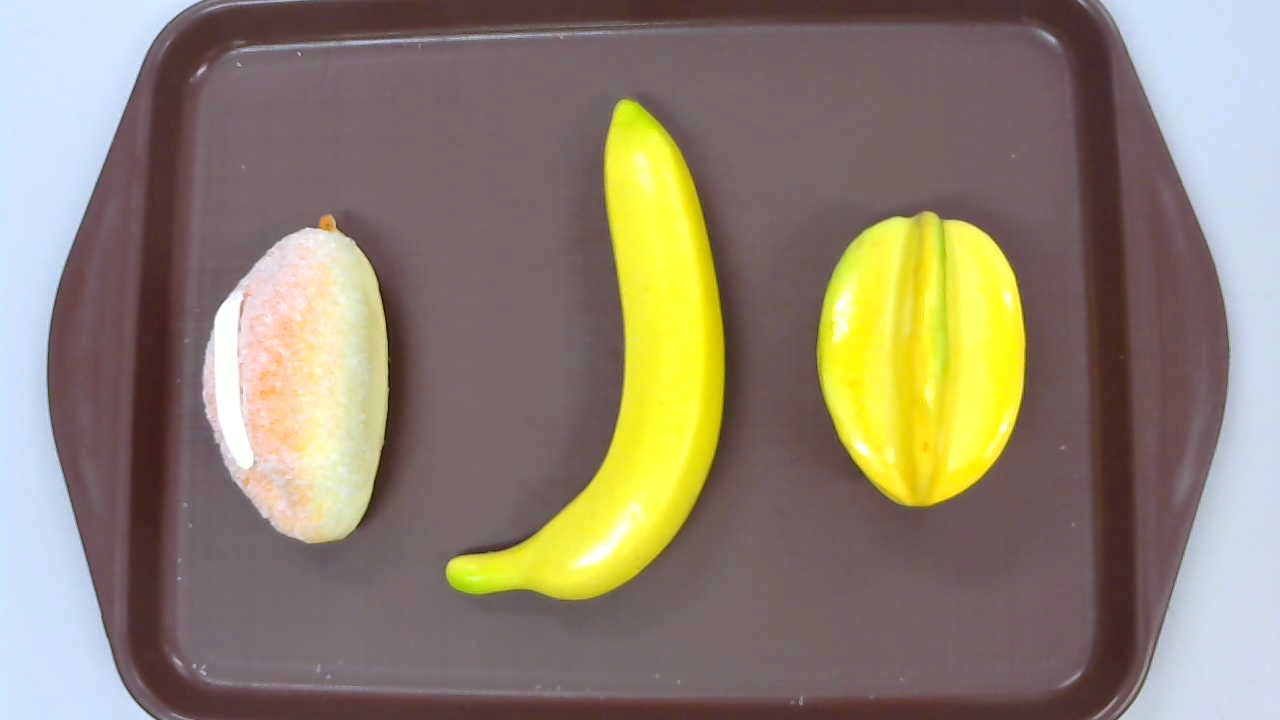banana: (445, 98, 726, 601)
coconut: (200, 214, 387, 546)
star fruit: (816, 209, 1027, 507)
